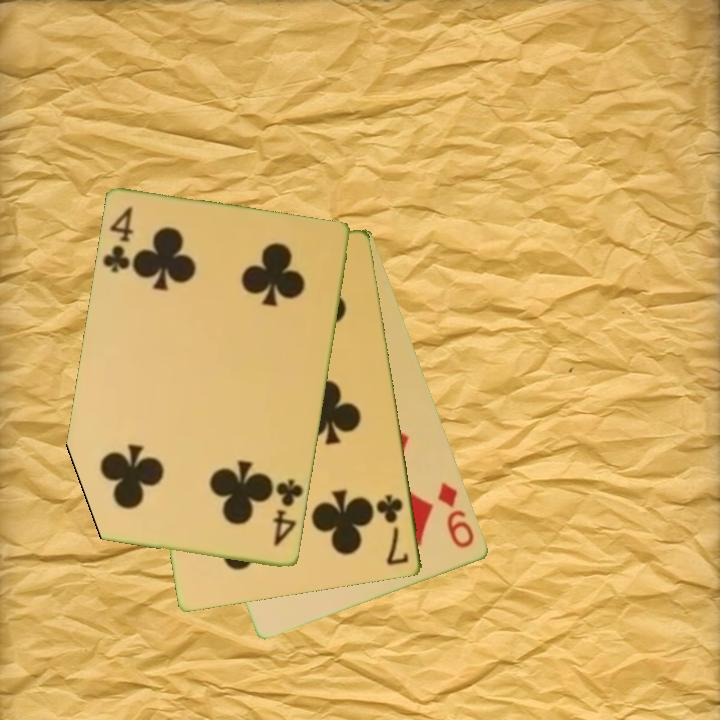4c: (99, 203, 136, 277), (270, 476, 307, 549)
7c: (374, 491, 412, 569)
9d: (434, 479, 478, 552)
